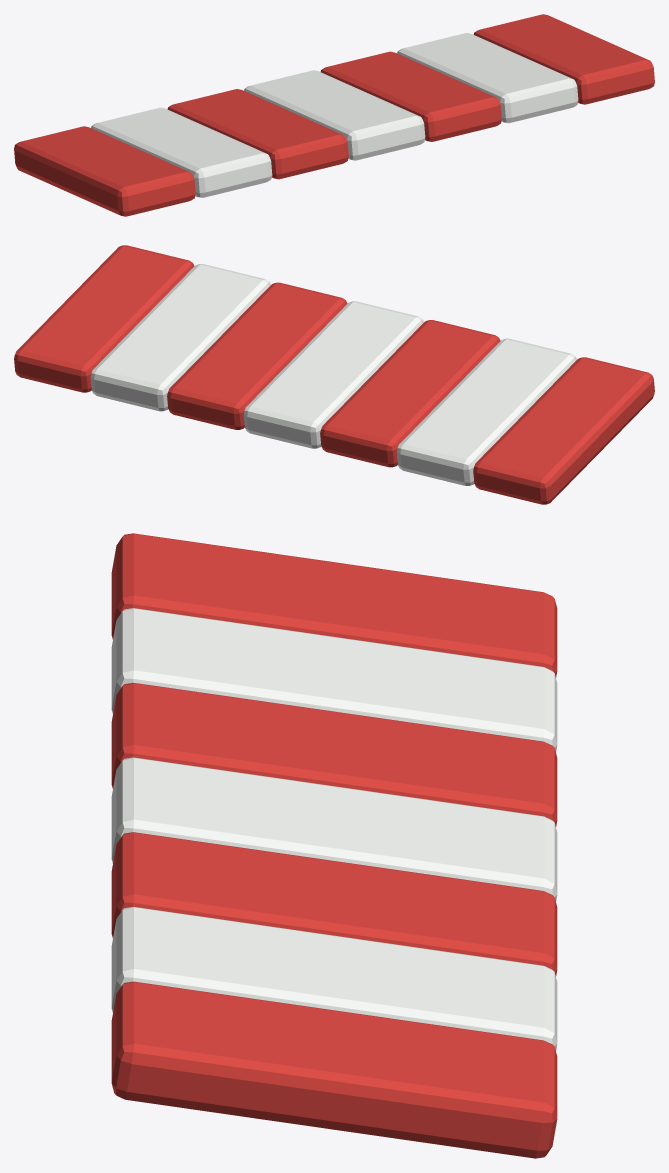
The model's file is Awning_RedWhite 1.fbx.
3 views of the same model, one above another, from view 1: azimuth 30°, elevation 25°; view 2: azimuth 150°, elevation 25°; view 3: azimuth 270°, elevation 25° (orthographic). The views are drawn at different scales.
Parts seen in each view (by area): view 1: AwningStripe_00.001, AwningStripe_01.001, AwningStripe_02.001, AwningStripe_03.001, AwningStripe_05.001, AwningStripe_04.001, AwningStripe_06.001; view 2: AwningStripe_00.001, AwningStripe_03.001, AwningStripe_02.001, AwningStripe_01.001, AwningStripe_06.001, AwningStripe_05.001, AwningStripe_04.001; view 3: AwningStripe_06.001, AwningStripe_03.001, AwningStripe_00.001, AwningStripe_02.001, AwningStripe_04.001, AwningStripe_05.001, AwningStripe_01.001.
Boxes of the visible parts, x1,y1,x2,y2 form: AwningStripe_00.001: (14,126,195,216); AwningStripe_01.001: (91,107,272,197); AwningStripe_02.001: (167,89,348,179); AwningStripe_03.001: (244,70,425,160); AwningStripe_05.001: (397,33,578,123); AwningStripe_04.001: (320,51,501,141); AwningStripe_06.001: (473,14,654,104); AwningStripe_00.001: (473,357,654,504); AwningStripe_03.001: (243,301,423,448); AwningStripe_02.001: (320,320,500,467); AwningStripe_01.001: (396,338,576,485); AwningStripe_06.001: (14,245,194,392); AwningStripe_05.001: (90,264,270,411); AwningStripe_04.001: (167,282,347,429); AwningStripe_06.001: (111,981,557,1158); AwningStripe_03.001: (111,757,557,901); AwningStripe_00.001: (111,533,557,677); AwningStripe_02.001: (111,682,557,826); AwningStripe_04.001: (111,832,557,975); AwningStripe_05.001: (111,907,557,1050); AwningStripe_01.001: (111,608,557,751).
Bounding box in the file's own units: 2 × 0.2036 × 0.719.
